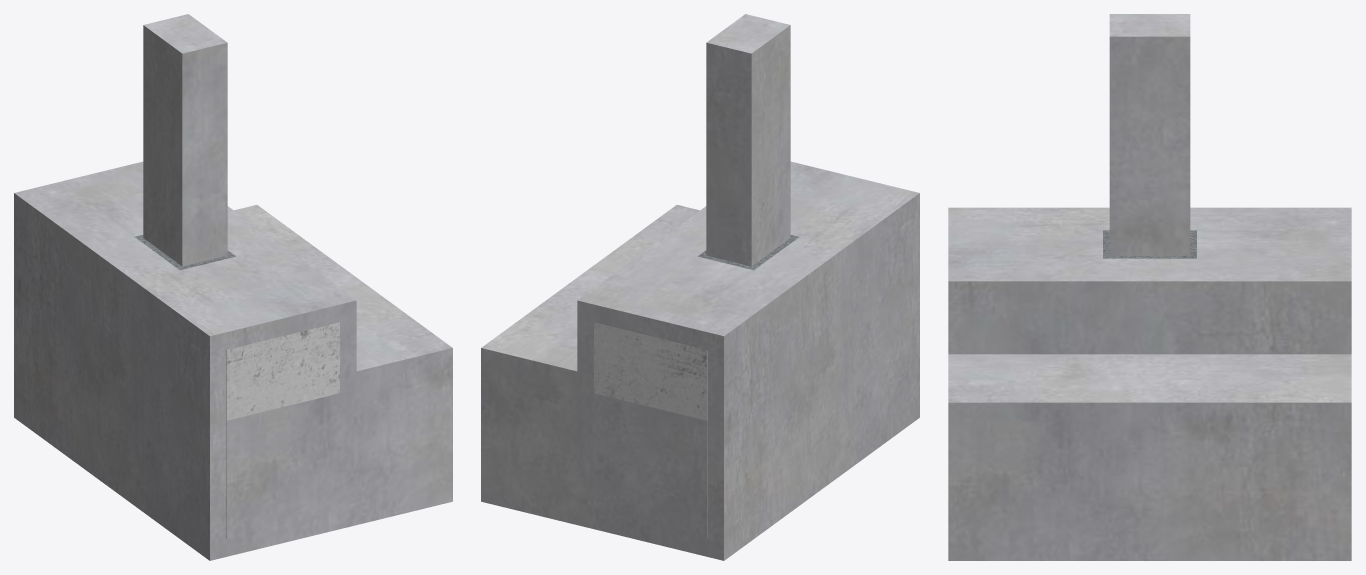
The model's file is balcony-railing-mortise.glb.
3 renders of one model, left to right at view 1: azimuth 30°, elevation 25°; view 2: azimuth 150°, elevation 25°; view 3: azimuth 270°, elevation 25°, orthographic. The views are drawn at different scales.
Visible parts, largest first — view 1: 饰面包覆, 阳台板, 带榫栏杆脚, 现浇挡水带; view 2: 饰面包覆, 阳台板, 带榫栏杆脚, 现浇挡水带; view 3: 饰面包覆, 阳台板, 带榫栏杆脚, 坐浆与侧缝填充.
Boxes of the visible parts, box(x1,y1,x2,y2) form: 饰面包覆: box(14, 161, 452, 560); 阳台板: box(226, 365, 452, 538); 带榫栏杆脚: box(143, 14, 227, 266); 现浇挡水带: box(226, 322, 339, 420); 饰面包覆: box(481, 161, 919, 560); 阳台板: box(481, 365, 707, 538); 带榫栏杆脚: box(706, 14, 790, 266); 现浇挡水带: box(594, 322, 707, 420); 饰面包覆: box(948, 207, 1351, 560); 阳台板: box(948, 421, 1351, 542); 带榫栏杆脚: box(1109, 14, 1190, 255); 坐浆与侧缝填充: box(1103, 230, 1196, 258).
Size of the model in its own units: 0.215 by 0.37 by 0.3.
Materials: 5 (5 with a texture image).
